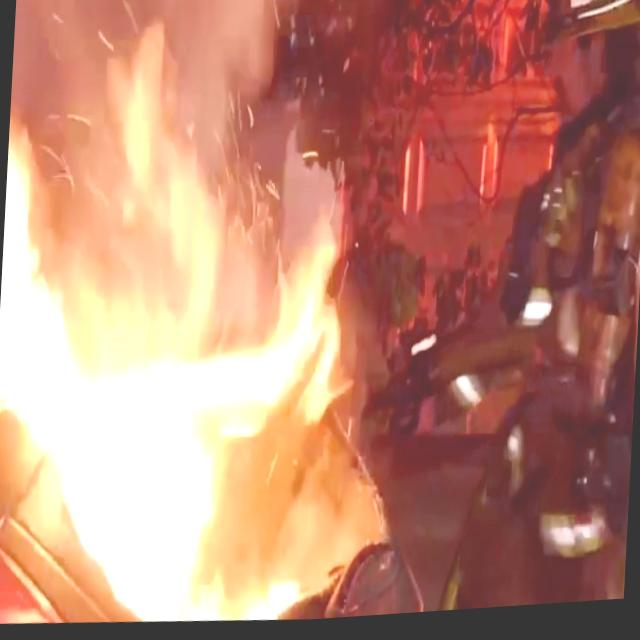fire: (0, 42, 377, 640)
